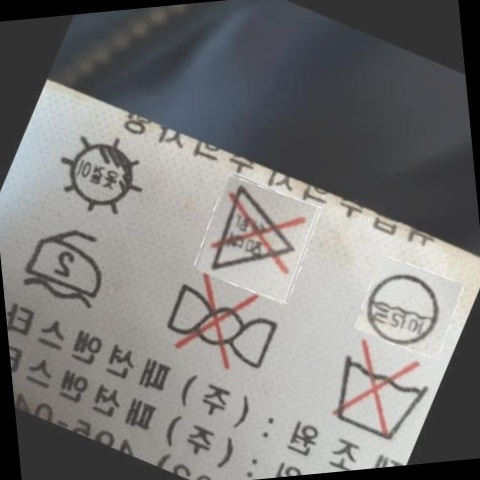DN_wash: (329, 336, 423, 445)
DN_wring: (159, 269, 282, 385)
dry_clean: (354, 256, 449, 352)
iron_medium: (17, 225, 110, 311)
line_dry_in_shade: (55, 128, 145, 223)
non_chlorine_bleach: (208, 181, 300, 285)
